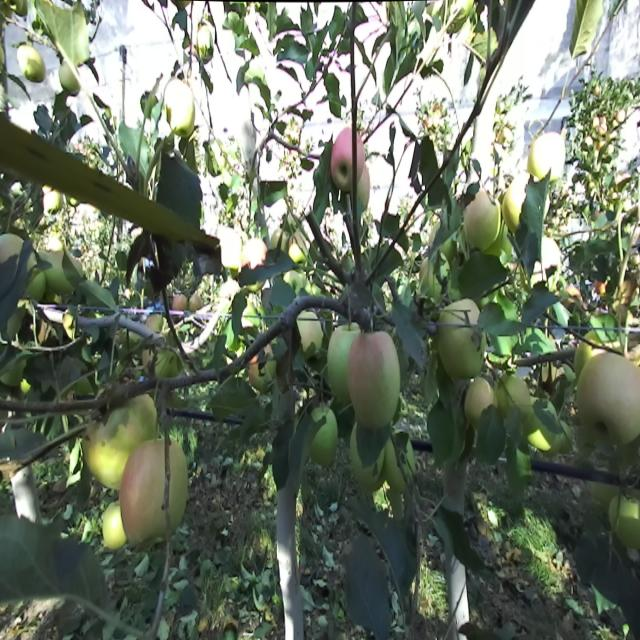apple: (120, 439, 188, 549), (84, 388, 154, 487), (575, 352, 640, 450), (348, 331, 400, 429), (438, 298, 484, 379), (503, 172, 550, 235), (465, 190, 500, 251), (327, 322, 353, 400), (331, 127, 363, 188), (164, 80, 196, 138), (350, 427, 382, 485), (528, 237, 560, 293), (528, 132, 566, 178), (608, 495, 640, 545), (387, 435, 413, 493), (496, 374, 530, 418), (530, 395, 556, 452), (312, 406, 337, 463), (464, 380, 496, 424), (240, 238, 267, 290), (420, 254, 450, 296), (248, 347, 276, 390), (102, 500, 126, 549), (16, 46, 46, 83), (298, 312, 321, 357), (58, 61, 80, 97), (28, 256, 45, 300), (0, 234, 22, 260), (360, 167, 370, 208)
